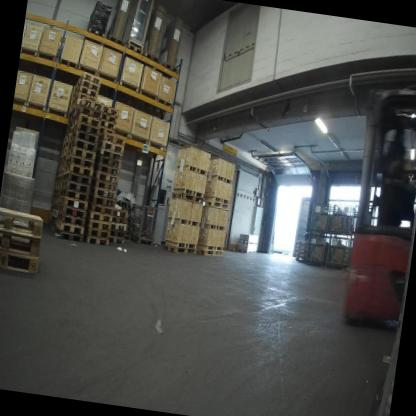forklift: (331, 70, 416, 333)
pallet: (0, 251, 44, 281), (0, 206, 46, 233), (0, 229, 46, 255), (169, 190, 208, 212), (72, 98, 104, 124), (72, 70, 102, 95), (68, 86, 100, 108), (69, 80, 102, 100), (63, 155, 94, 173), (55, 204, 87, 220), (156, 60, 179, 82), (62, 170, 93, 186), (68, 122, 97, 139), (163, 242, 198, 256), (67, 145, 94, 162), (67, 132, 97, 147), (93, 154, 121, 170), (67, 139, 96, 154), (193, 245, 224, 259), (56, 195, 87, 209), (55, 212, 86, 226), (87, 185, 118, 199), (73, 107, 100, 123), (97, 139, 124, 155), (64, 163, 92, 178), (54, 222, 84, 236), (58, 187, 87, 201), (90, 170, 119, 184), (85, 202, 114, 216), (204, 197, 231, 212), (59, 179, 90, 191), (90, 178, 118, 191), (67, 92, 87, 110), (75, 115, 99, 130), (54, 230, 84, 242), (87, 194, 116, 206), (140, 50, 160, 67), (93, 162, 121, 174), (98, 133, 125, 145), (86, 210, 113, 222), (124, 40, 143, 57), (107, 33, 126, 50), (85, 226, 109, 239), (100, 102, 119, 118), (99, 112, 117, 128), (95, 147, 122, 157), (85, 219, 112, 229), (87, 27, 105, 41), (84, 236, 107, 246), (106, 235, 125, 247), (96, 131, 115, 142), (109, 207, 127, 218), (98, 122, 114, 133), (109, 223, 127, 232), (110, 217, 128, 225), (67, 102, 77, 115), (61, 139, 71, 151), (108, 230, 125, 237), (293, 248, 306, 257), (293, 254, 305, 262), (59, 148, 69, 157), (295, 242, 306, 250), (62, 134, 70, 145), (296, 239, 307, 245), (59, 162, 66, 171), (52, 196, 61, 203), (50, 209, 57, 218), (53, 189, 60, 197), (58, 169, 64, 177), (60, 156, 66, 163), (55, 182, 61, 189), (57, 176, 63, 182), (52, 203, 59, 207)
stillage: (126, 189, 166, 244), (102, 187, 139, 240), (327, 199, 356, 242), (305, 197, 334, 234), (324, 231, 352, 269), (302, 231, 330, 263)
